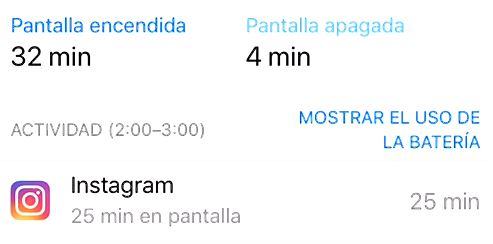activity: (6, 118, 217, 146)
app: (4, 172, 487, 230)
